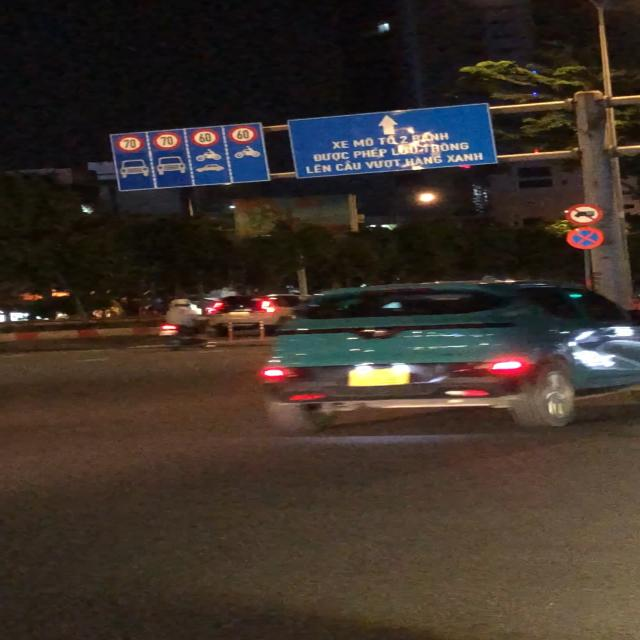Bien bao cam dung xe va do xe: (564, 227, 608, 251)
Bien bao cam xe oto tai: (563, 202, 601, 225)
Bien bao toc do toi da cho phep: (225, 125, 263, 144), (189, 128, 222, 148), (113, 134, 145, 154), (150, 131, 180, 151)
